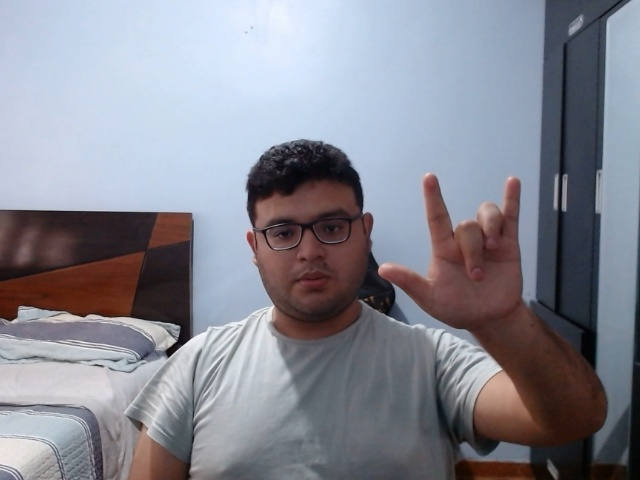I love you: (376, 169, 529, 337)
